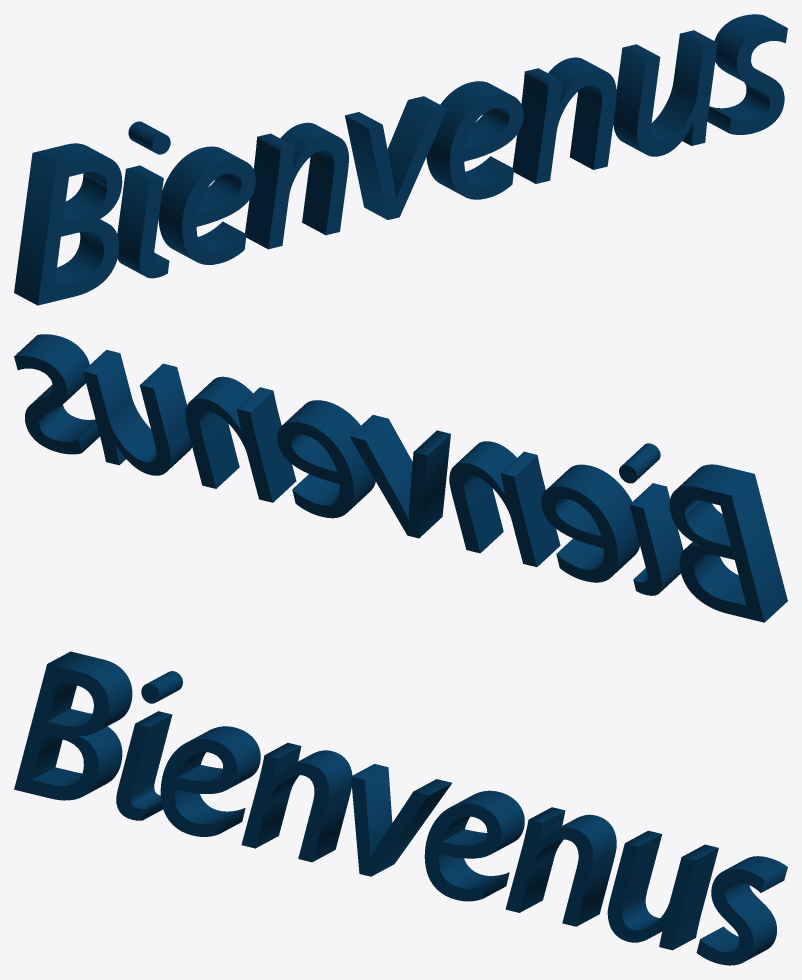
Rendered from Bienvenus.glb.
3 views of the same model, one above another, from view 1: azimuth 30°, elevation 25°; view 2: azimuth 150°, elevation 25°; view 3: azimuth 330°, elevation 25° (orthographic).
Parts seen in each view (by area): view 1: mesh_id100; view 2: mesh_id100; view 3: mesh_id100.
Boxes of the visible parts, box(x1,y1,x2,y2) form: mesh_id100: box(14, 14, 787, 305); mesh_id100: box(14, 334, 787, 622); mesh_id100: box(14, 651, 787, 965).
Size of the model in its own units: 0.4114 by 0.073 by 0.0299.
Materials: 1 (1 with a texture image).
